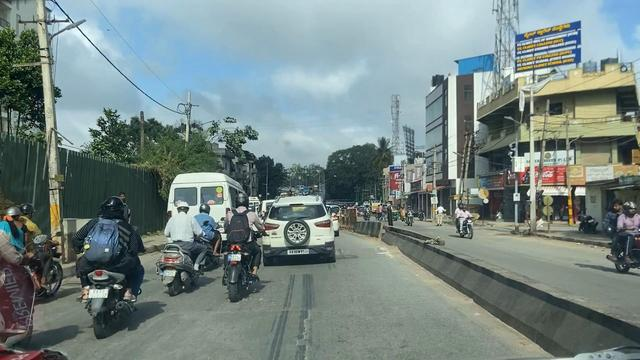LMV: (87, 201, 138, 323), (266, 197, 338, 261), (162, 201, 201, 284), (227, 200, 258, 297)
RoadDamages: (271, 303, 324, 360)
SpeedBump: (337, 240, 404, 259)
